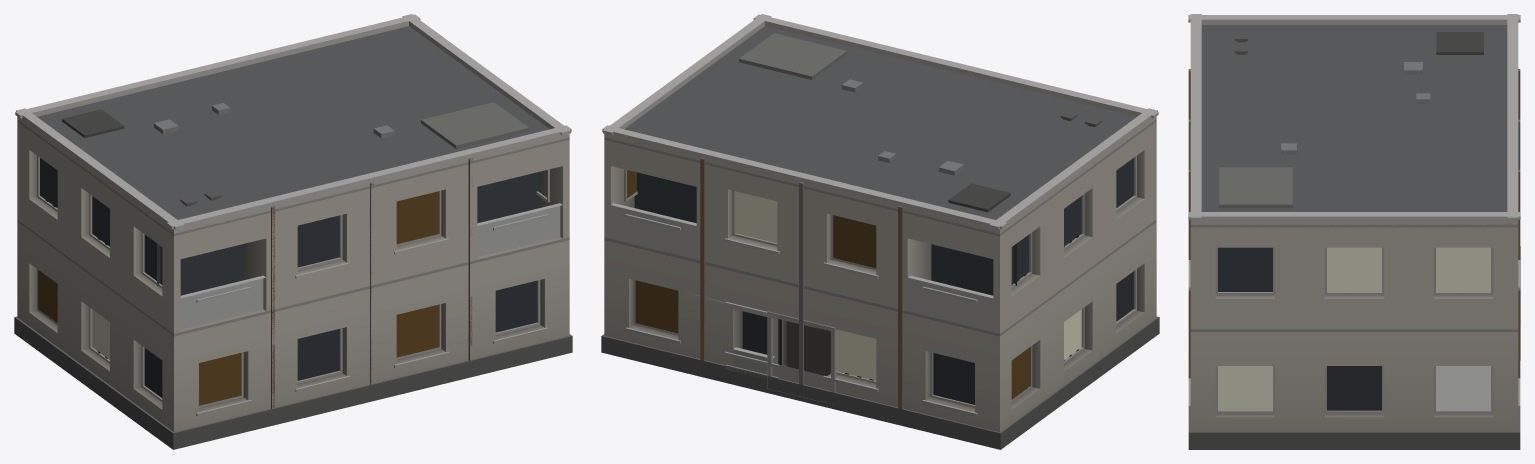
Rendered from building_shed.glb.
3 views of the same model, side by side, from view 1: azimuth 30°, elevation 25°; view 2: azimuth 150°, elevation 25°; view 3: azimuth 270°, elevation 25° (orthographic). The views are drawn at different scales.
Parts seen in each view (by area): view 1: building_shed.001; view 2: building_shed.001; view 3: building_shed.001.
Boxes of the visible parts, <box> form: building_shed.001: <box>14,14,572,449</box>; building_shed.001: <box>601,14,1159,449</box>; building_shed.001: <box>1188,14,1520,449</box>.
Size of the model in its own units: 13.14 by 6.99 by 9.06.
